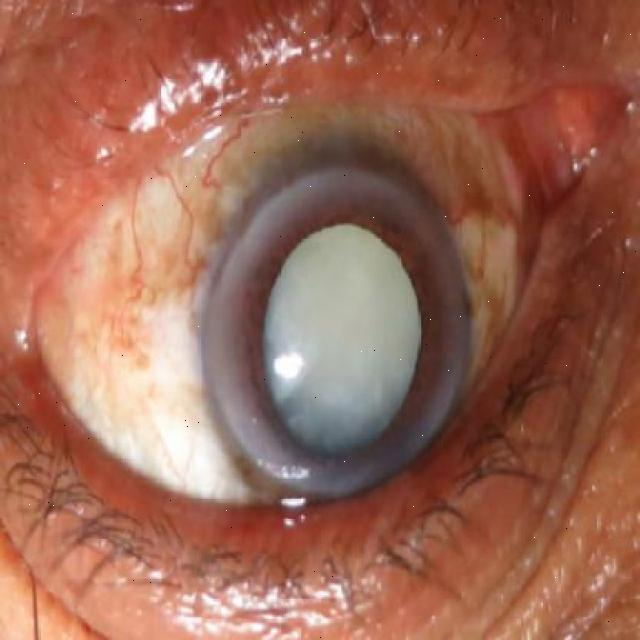Cataract: (216, 153, 466, 494)
